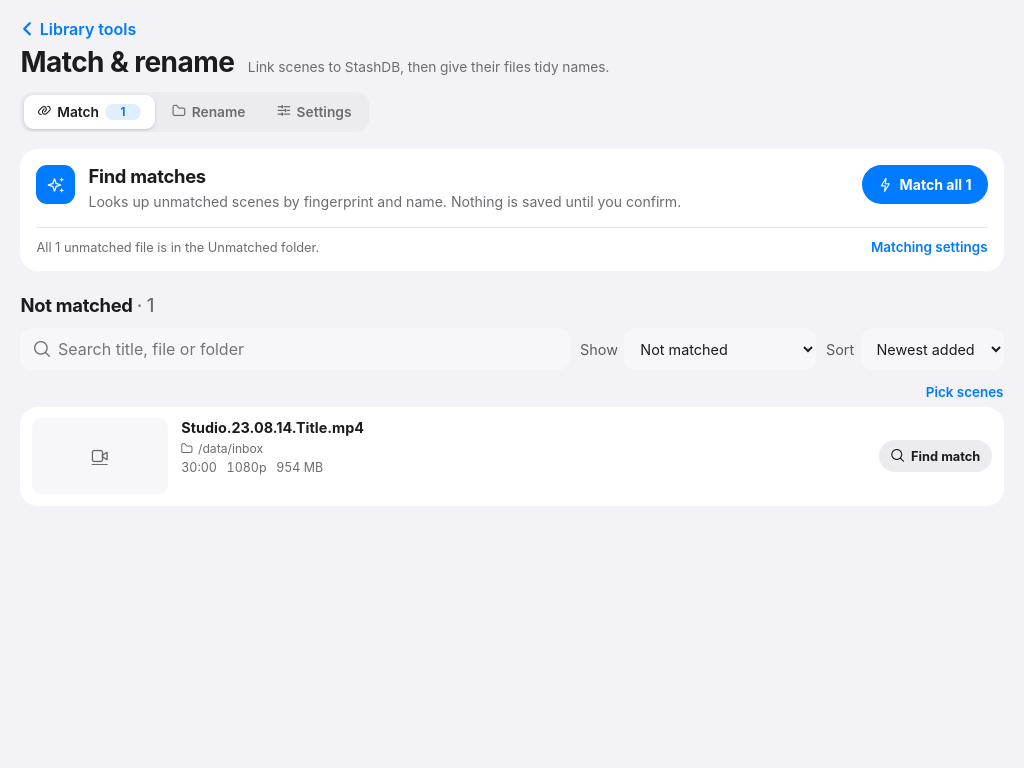
it: OrganizePageComponent › finds a match for a scene and saves it
Step 1. Click the button "Find match" → (936, 456), box [879,440,992,472]
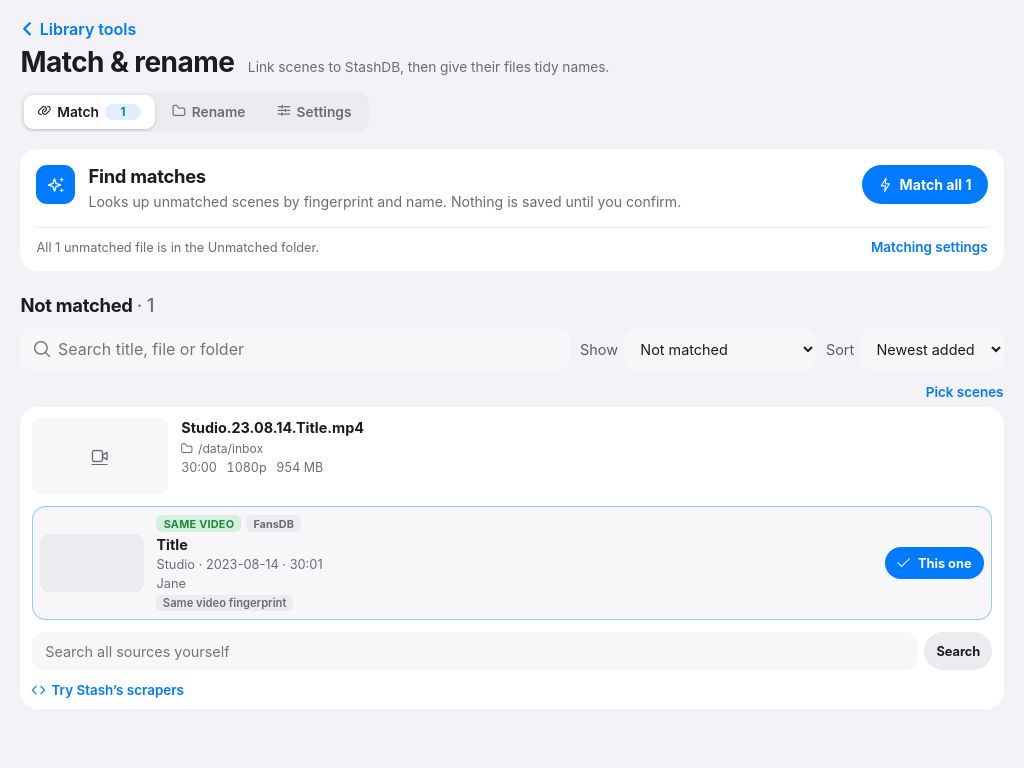
Now the text "Same video" is shown, box [156,515,242,532]
Now the text "FansDB" is shown, box [246,515,301,532]
Step 2. Click the button "This one" → (934, 563), box [885,547,984,579]
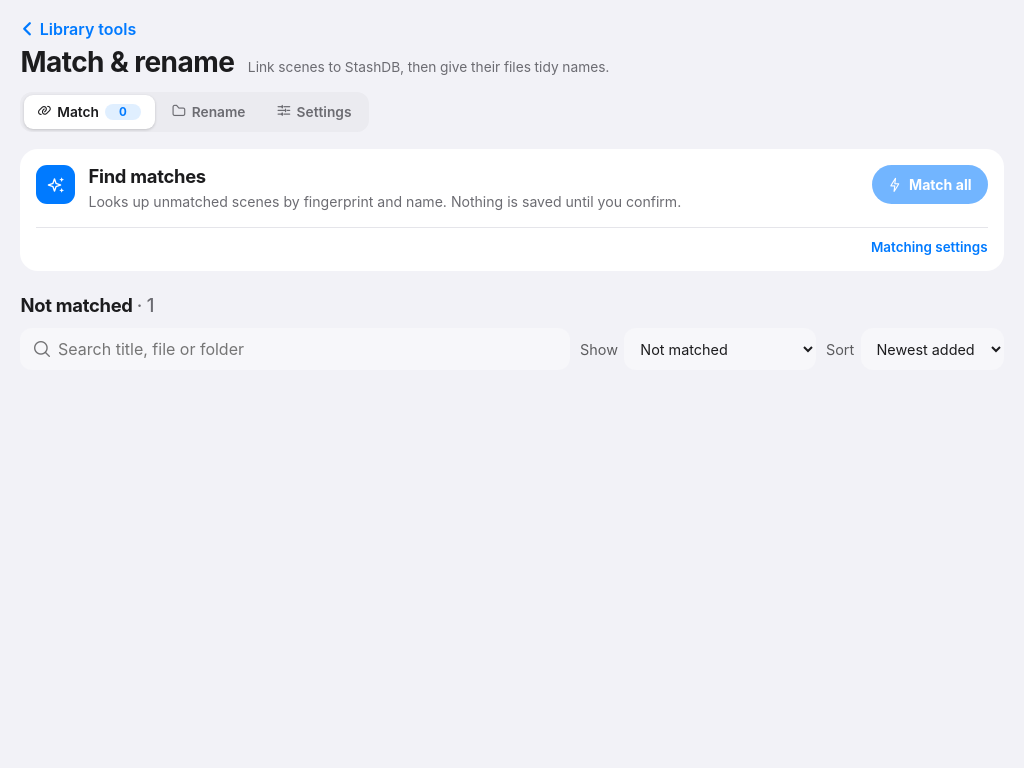
Now the text "Studio.23.08.14.Title.mp4" is gone
